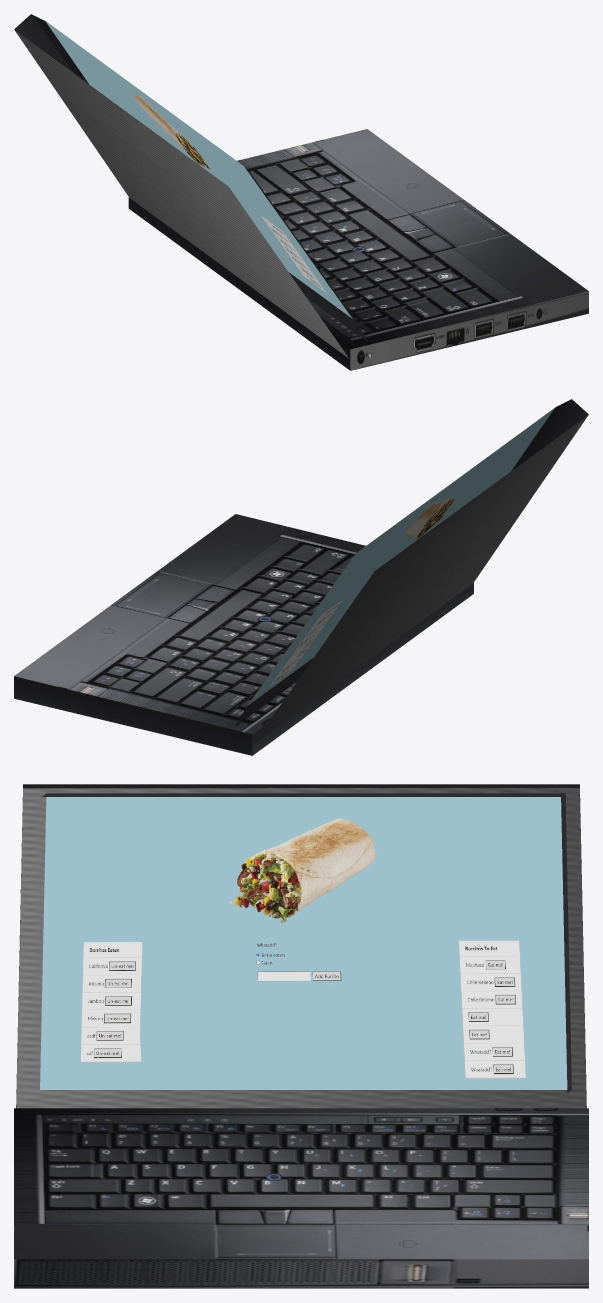
File: laptopburrito.glb
The picture shows the model from 3 angles, top to bottom: view 1: azimuth 30°, elevation 25°; view 2: azimuth 150°, elevation 25°; view 3: azimuth 270°, elevation 25°; orthographic projection. The views are drawn at different scales.
Parts seen in each view (by area): view 1: Cube; view 2: Cube; view 3: Cube.
Boxes of the visible parts, x1=… form: Cube: x1=14, y1=14, x2=588, y2=370; Cube: x1=14, y1=399, x2=588, y2=755; Cube: x1=14, y1=784, x2=588, y2=1288.
Bounding box in the file's own units: 1.65 × 0.9846 × 1.77.
6 materials, 5 textured.
